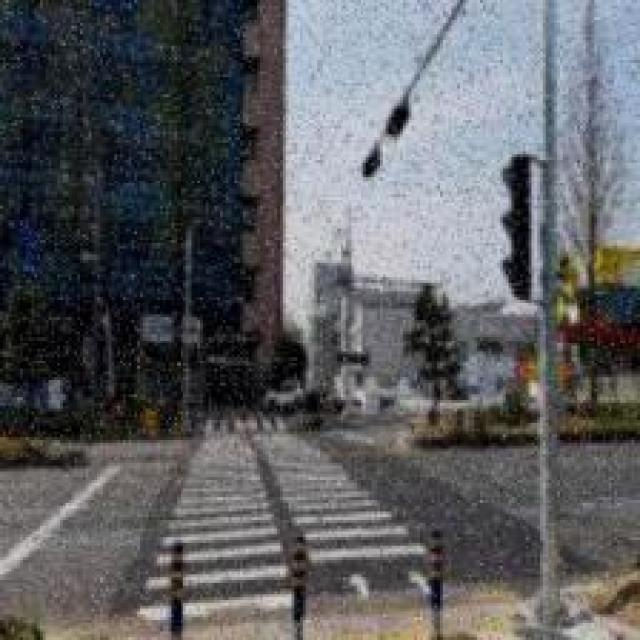crosswalk: (140, 413, 428, 618)
